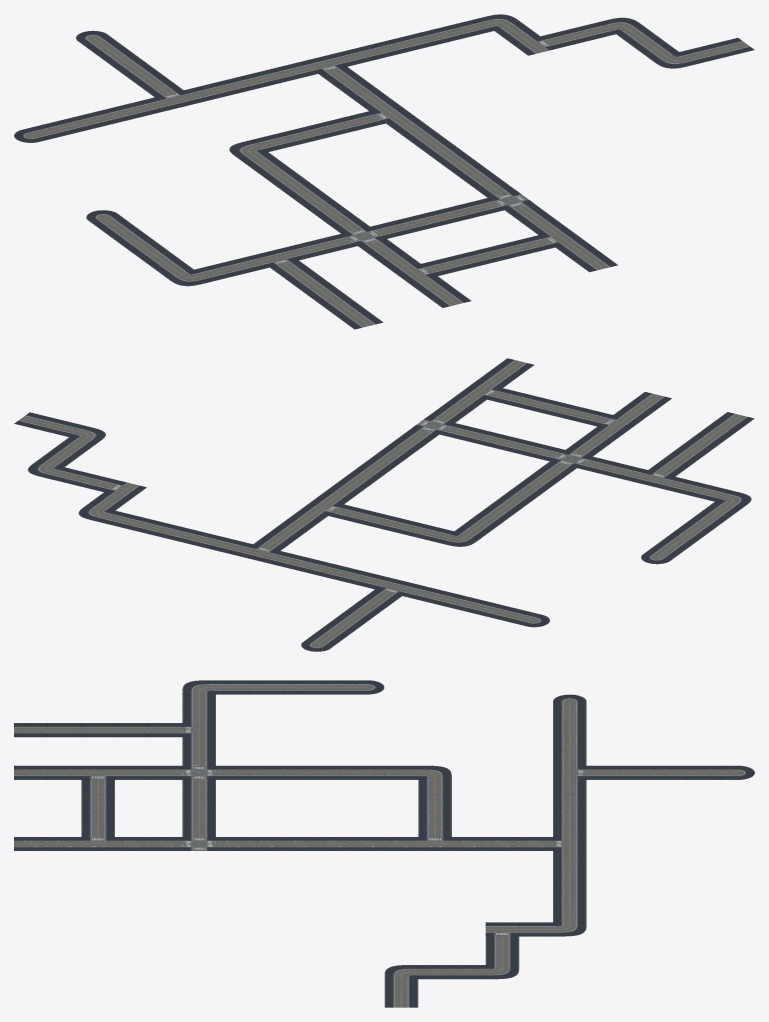
The model's file is m_idle_bg_road_a_01.fbx.
3 views of the same model, one above another, from view 1: azimuth 30°, elevation 25°; view 2: azimuth 150°, elevation 25°; view 3: azimuth 270°, elevation 25° (orthographic). The views are drawn at different scales.
Visible parts, largest first — view 1: m_idle_bg_road_a_01; view 2: m_idle_bg_road_a_01; view 3: m_idle_bg_road_a_01.
Part boxes in pixels (bbox=[...]): m_idle_bg_road_a_01: bbox=[14, 14, 754, 329]; m_idle_bg_road_a_01: bbox=[14, 358, 754, 651]; m_idle_bg_road_a_01: bbox=[14, 680, 754, 1007].
Bounding box in the file's own units: 575 × 0.000279 × 550.
